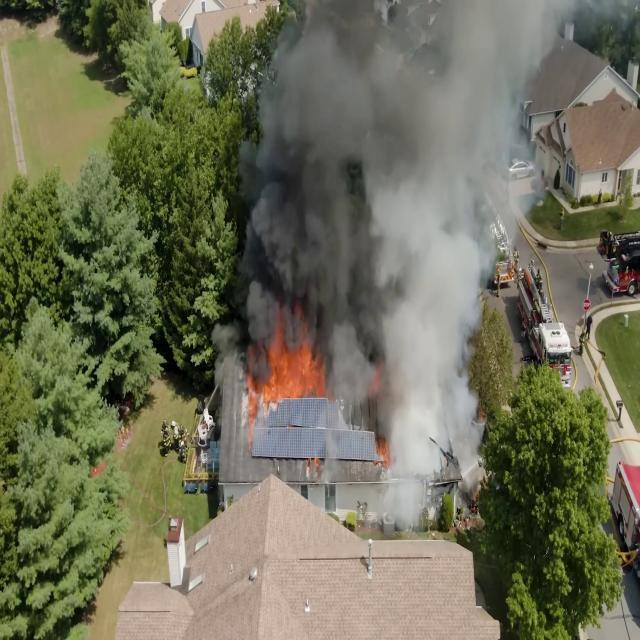Fire: (244, 301, 336, 395)
Smoke: (381, 97, 472, 422), (252, 21, 367, 272)
